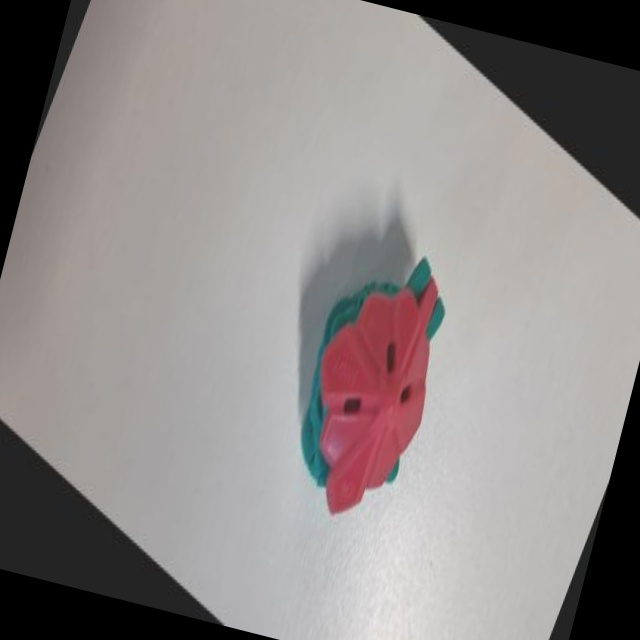House: (229, 182, 498, 610)
